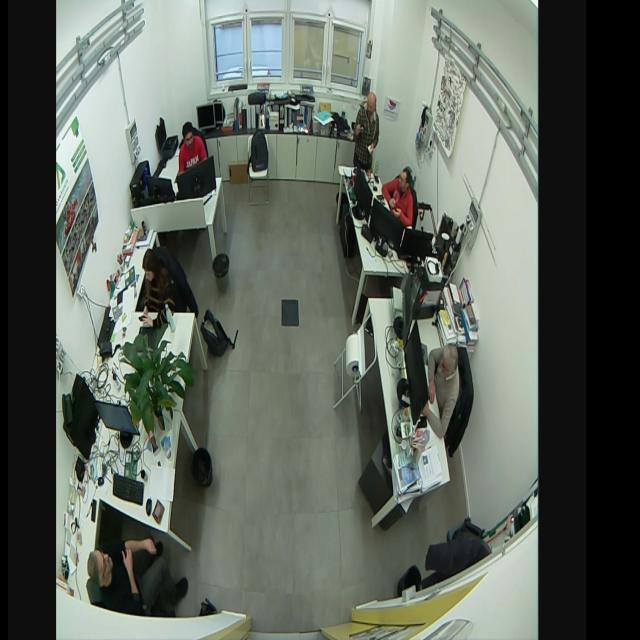Persona: (86, 522, 188, 614), (423, 335, 462, 436), (136, 242, 177, 332), (351, 91, 382, 174), (173, 120, 212, 184), (382, 163, 418, 227)
